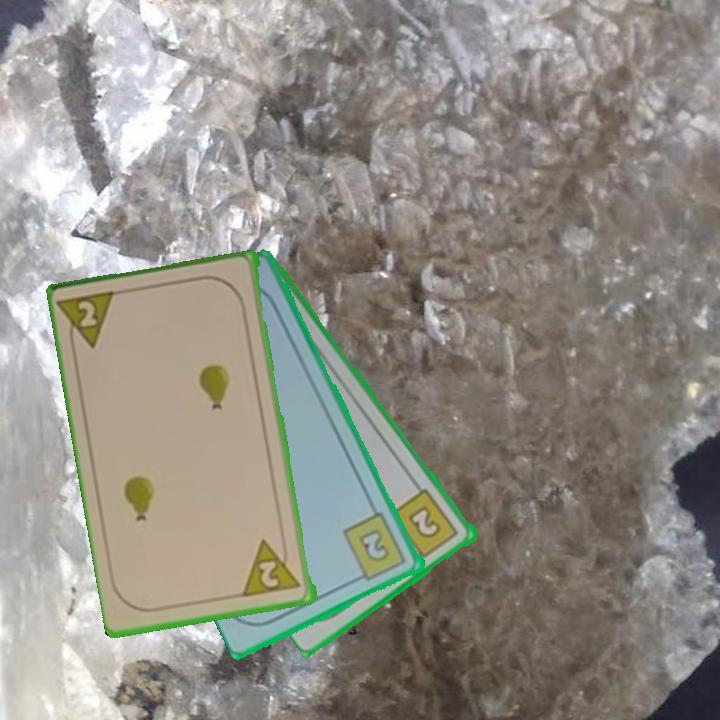2b: (388, 485, 462, 564), (339, 509, 410, 585)
2p: (57, 287, 122, 356), (241, 534, 304, 600)
